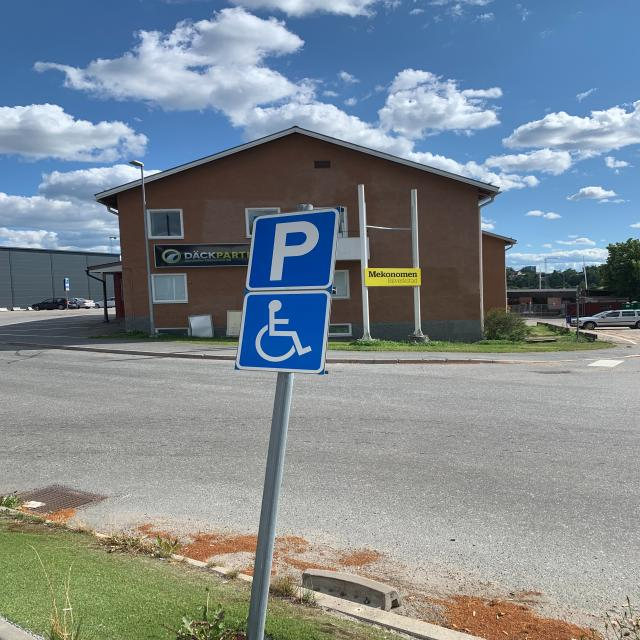psign: (246, 209, 342, 291)
